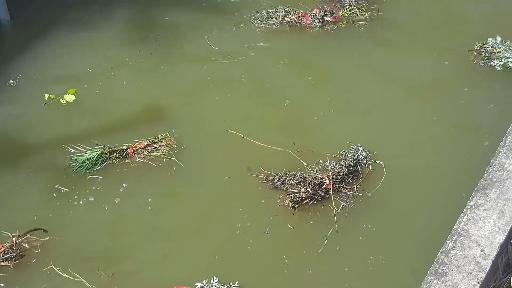leaf: (40, 91, 80, 117)
twig: (222, 125, 389, 253), (62, 135, 215, 185), (254, 8, 390, 37), (0, 221, 64, 273), (48, 266, 118, 288), (468, 32, 512, 65), (165, 277, 262, 288), (310, 0, 406, 8)
